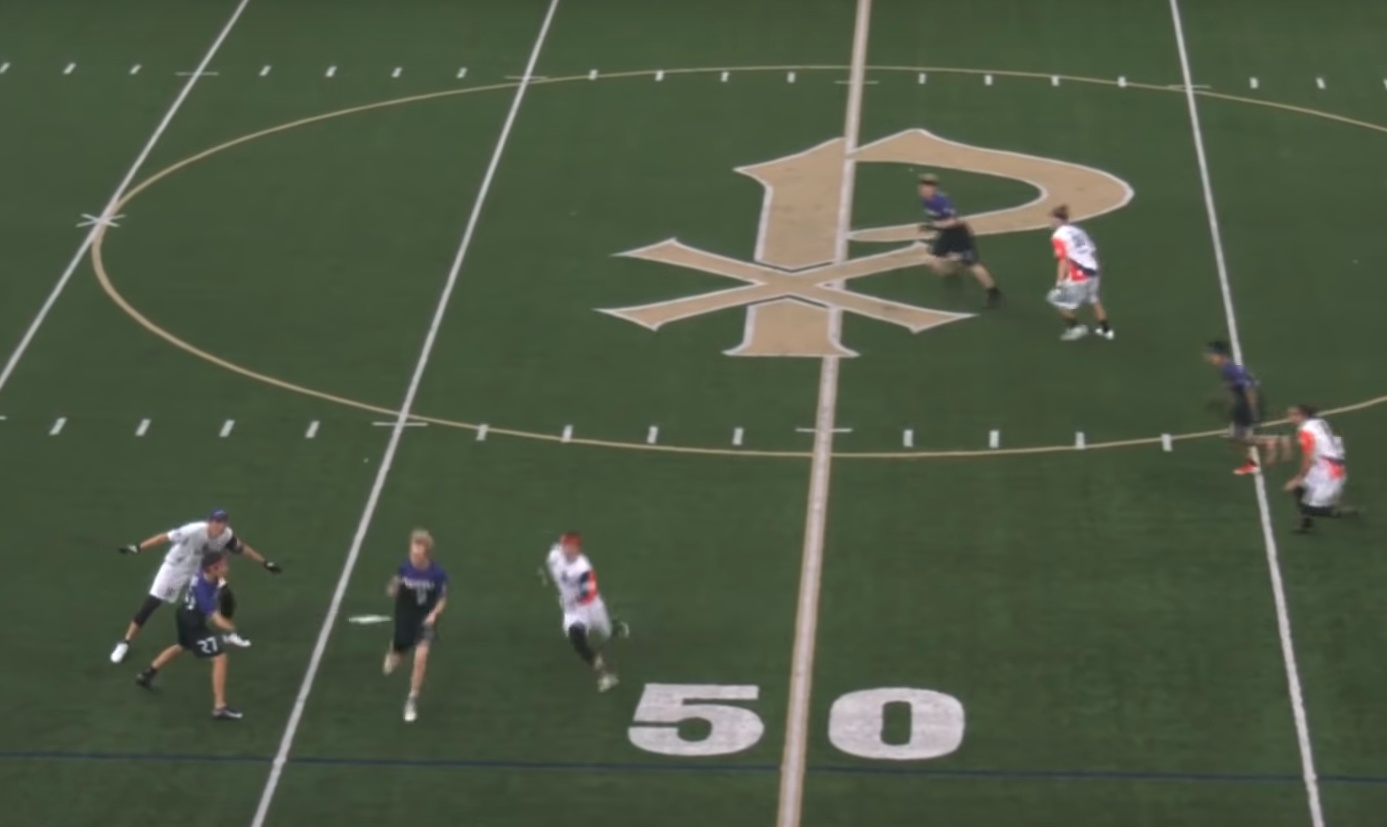frisbee: (350, 613, 390, 624)
